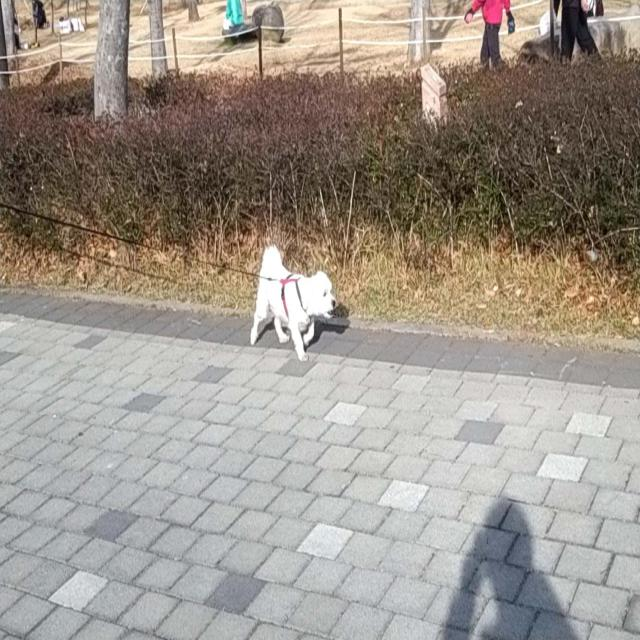Dog: (251, 244, 337, 362)
